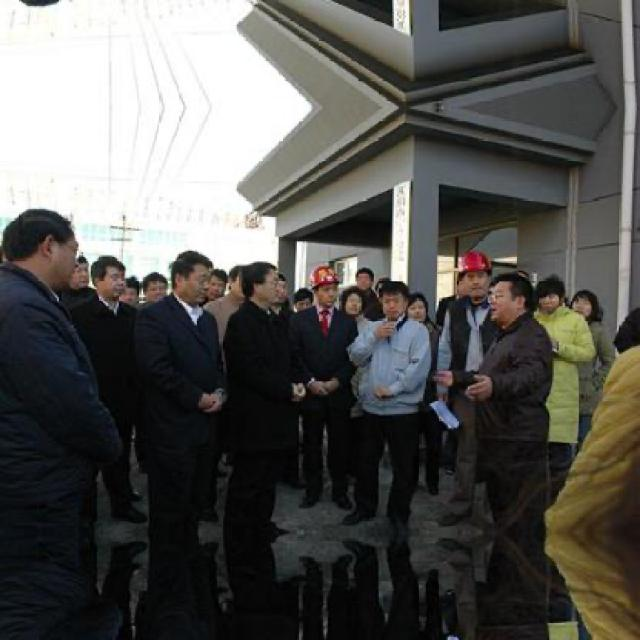con casco: (448, 230, 502, 302)
sin casco: (0, 200, 86, 304), (213, 260, 305, 328), (86, 235, 158, 295), (155, 243, 216, 300), (495, 264, 545, 329), (372, 285, 428, 332), (532, 258, 570, 314)
